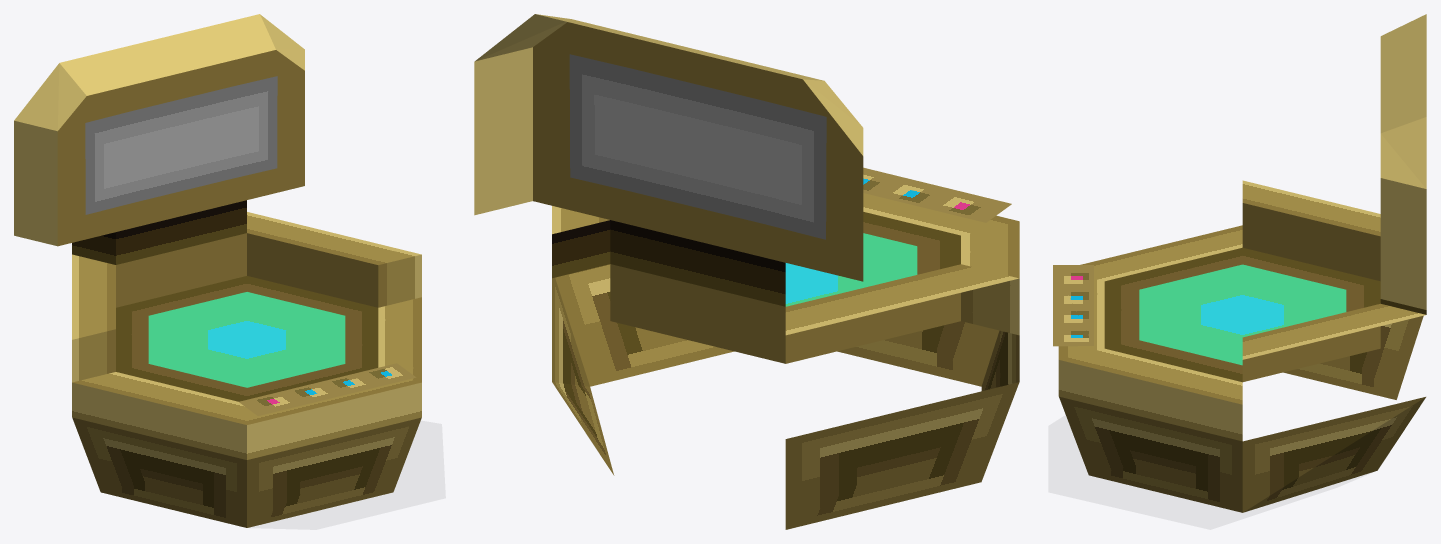
3 renders of one model, left to right at view 1: azimuth 30°, elevation 25°; view 2: azimuth 150°, elevation 25°; view 3: azimuth 270°, elevation 25°, orthographic. The views are drawn at different scales.
Visible parts, largest first — view 1: polygon0, polygon3, polygon2; view 2: polygon0, polygon3, polygon2; view 3: polygon0, polygon2.
Part boxes in pixels (<box>): polygon0: <box>14,14,421,527</box>; polygon3: <box>85,76,277,214</box>; polygon2: <box>148,292,345,387</box>; polygon0: <box>474,14,1019,529</box>; polygon3: <box>569,54,826,239</box>; polygon2: <box>785,233,917,306</box>; polygon0: <box>1053,14,1426,512</box>; polygon2: <box>1139,264,1346,365</box>.
Bounding box in the file's own units: 5.33 × 5.09 × 4.68.
Materials: 4 (4 with a texture image).
